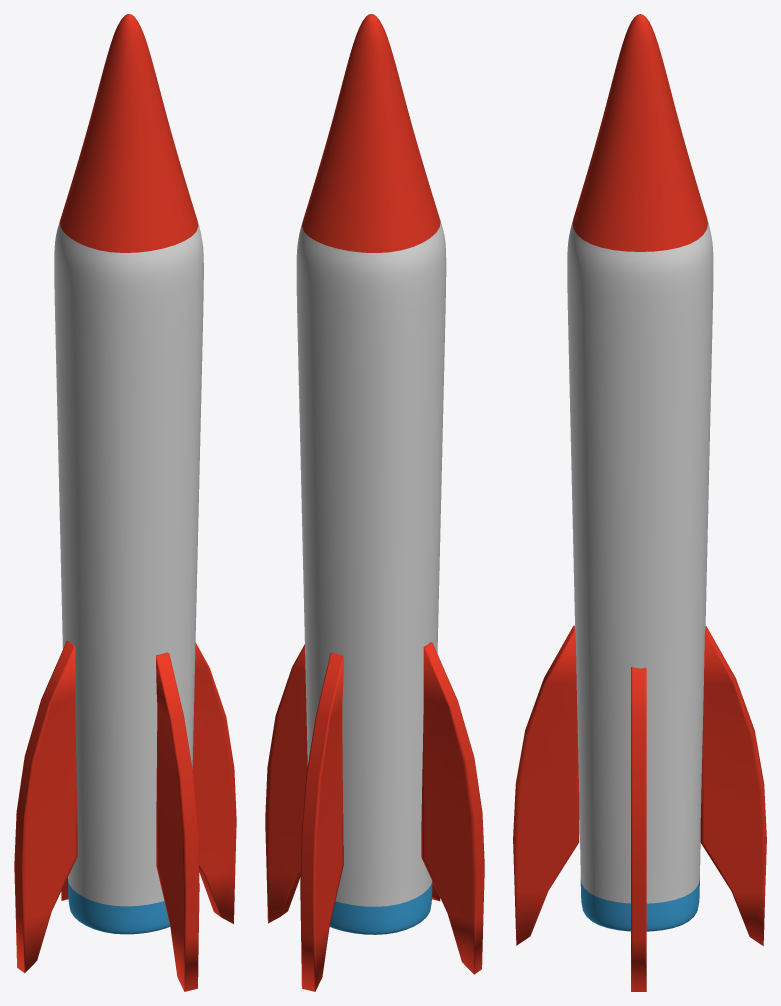
File: rocket.glb
3 views of the same model, side by side, from view 1: azimuth 30°, elevation 25°; view 2: azimuth 150°, elevation 25°; view 3: azimuth 270°, elevation 25° (orthographic).
Parts seen in each view (by area): view 1: Body, Fing.003, Fing, Fing.001; view 2: Body, Fing.003, Fing.002, Fing.001; view 3: Body, Fing, Fing.002, Fing.001.
Boxes of the visible parts, x1,y1,x2,y2 form: Body: (54,14,203,934); Fing.003: (14,641,77,972); Fing: (156,652,199,991); Fing.001: (192,643,236,923); Body: (296,14,446,934); Fing.003: (421,642,484,974); Fing.002: (300,652,343,991); Fing.001: (265,644,307,923); Body: (567,14,713,931); Fing: (513,625,579,945); Fing.002: (700,626,766,945); Fing.001: (631,667,646,991).
Size of the model in its own units: 0.7736 by 3.23 by 0.7993.
